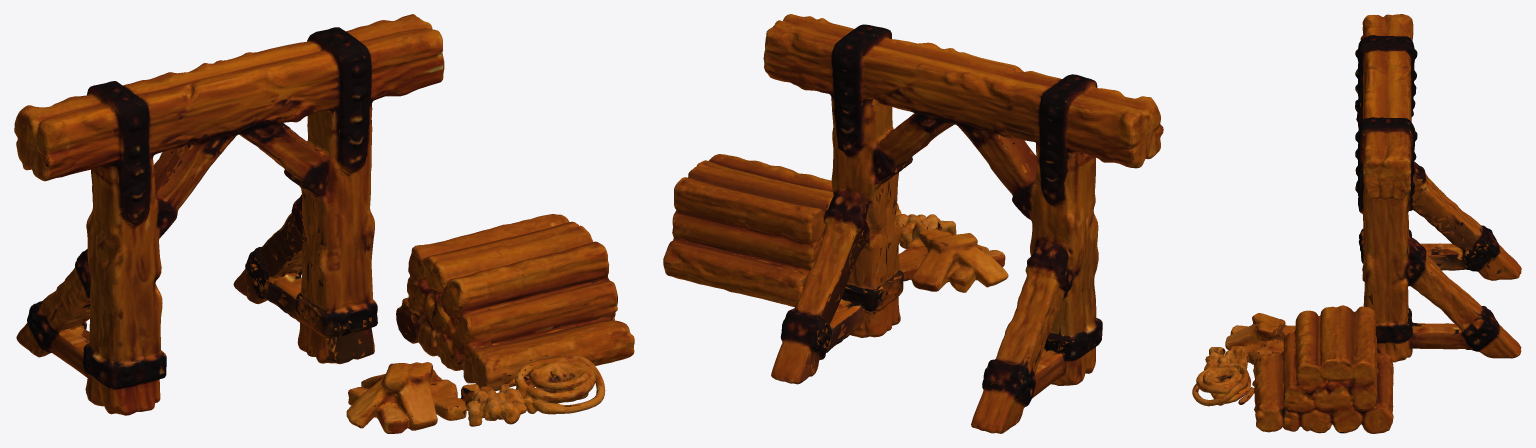
Rendered from timber-support-set.glb.
3 views of the same model, side by side, from view 1: azimuth 30°, elevation 25°; view 2: azimuth 150°, elevation 25°; view 3: azimuth 270°, elevation 25° (orthographic). The views are drawn at different scales.
Visible parts, largest first — view 1: geometry_0; view 2: geometry_0; view 3: geometry_0.
Boxes of the visible parts, x1,y1,x2,y2 form: geometry_0: (14,14,634,433); geometry_0: (663,14,1163,433); geometry_0: (1192,14,1521,433).
Size of the model in its own units: 3.45 by 2 by 2.51.
Materials: 1 (1 with a texture image).
